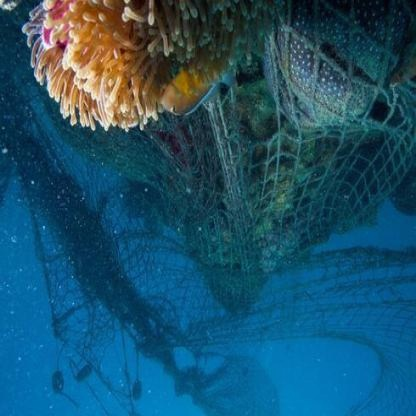net: (110, 124, 416, 330)
